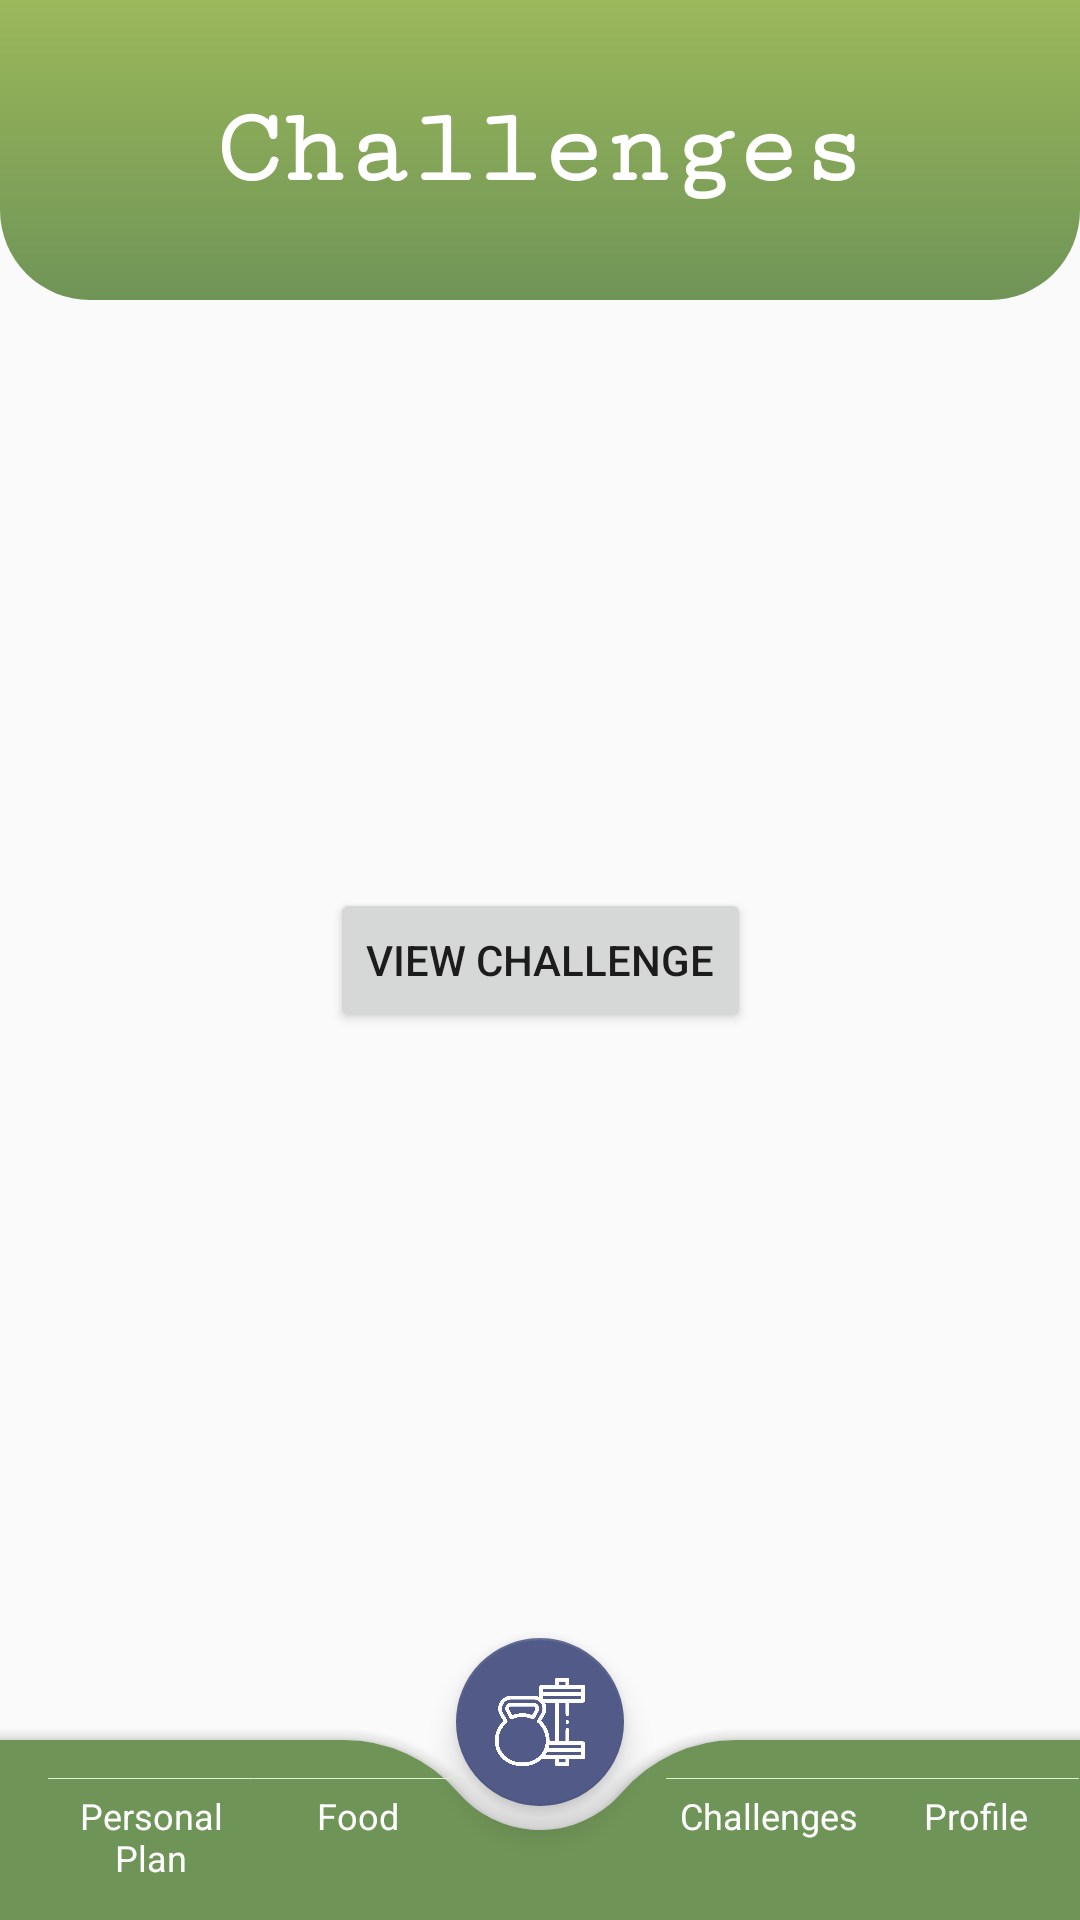

Point at icon controls on the screen. Image size 1080px x 1920px, points as [x,y].
fit: [540,1740]
